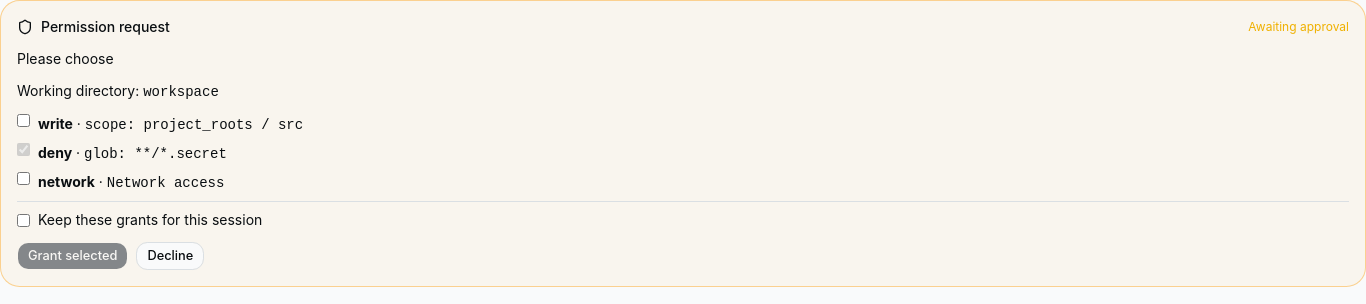
shows every grant/restriction and sends only selected IDs with explicit session scope
The width and height of the screenshot is (1366, 304).
Expected: the checkbox labelled "deny · glob: **/*.secret" is disabled, [17, 143, 30, 156]
Expected: the button "Grant selected" is disabled, [17, 242, 128, 270]
Click the checkbox labelled "write · scope: project_roots / src" at (24, 120), box [17, 114, 30, 127]
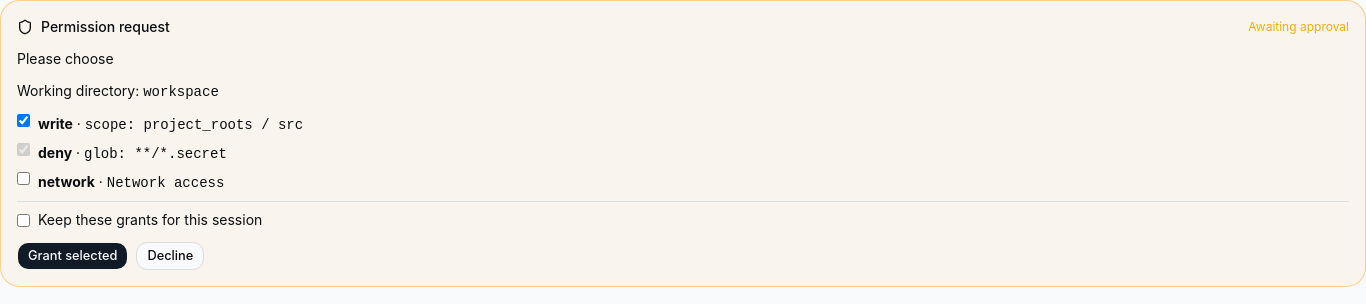
Click the checkbox labelled "Keep these grants for this session" at (24, 220), box [17, 214, 30, 226]
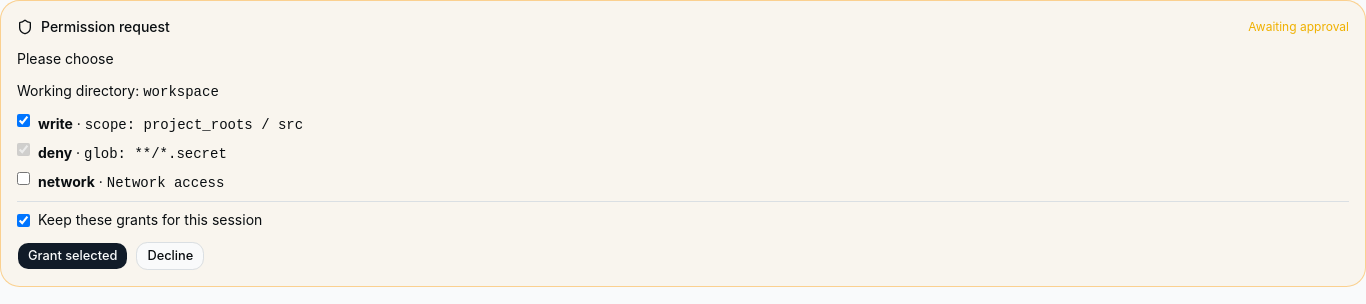
Click the button "Grant selected" at (73, 256), box [17, 242, 128, 270]
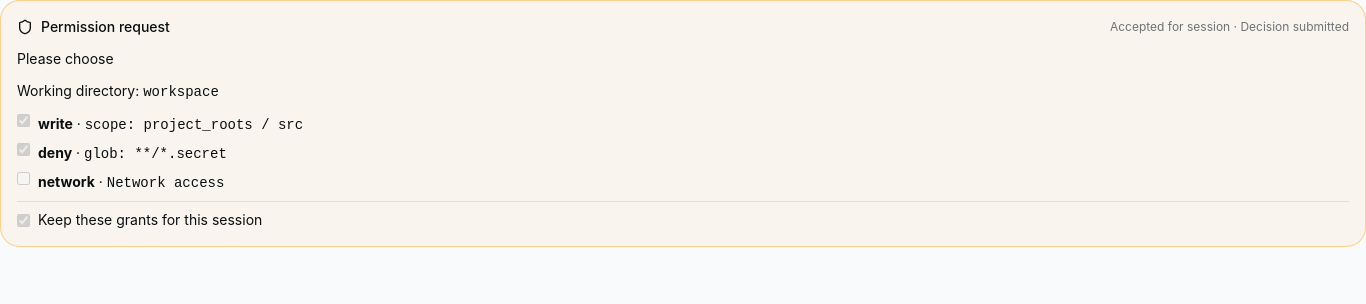
Now the text "Accepted for session · Decision submitted" is shown, box [1110, 19, 1349, 35]
Now the button "Grant selected" is gone
